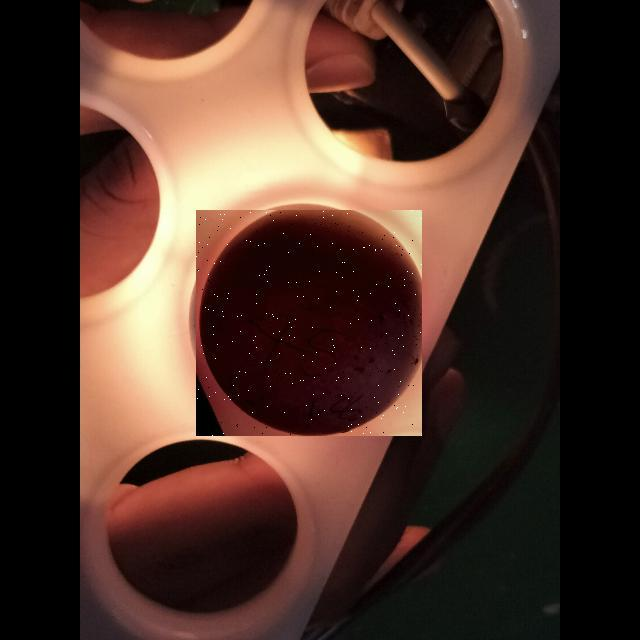Fertile: (196, 210, 422, 436)
